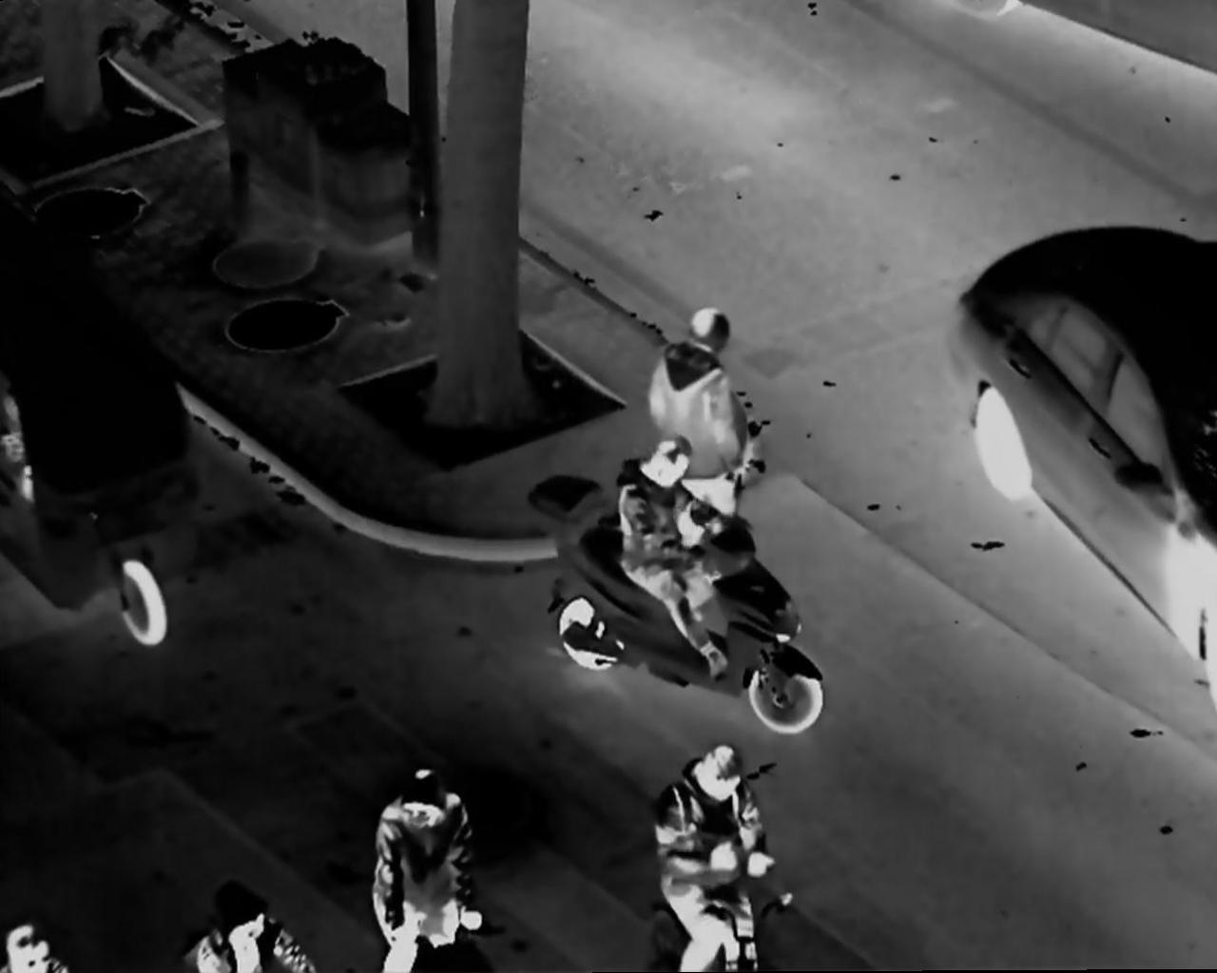person: (609, 429, 744, 691), (649, 744, 791, 973), (645, 305, 772, 526), (362, 761, 483, 973), (175, 885, 327, 973)
